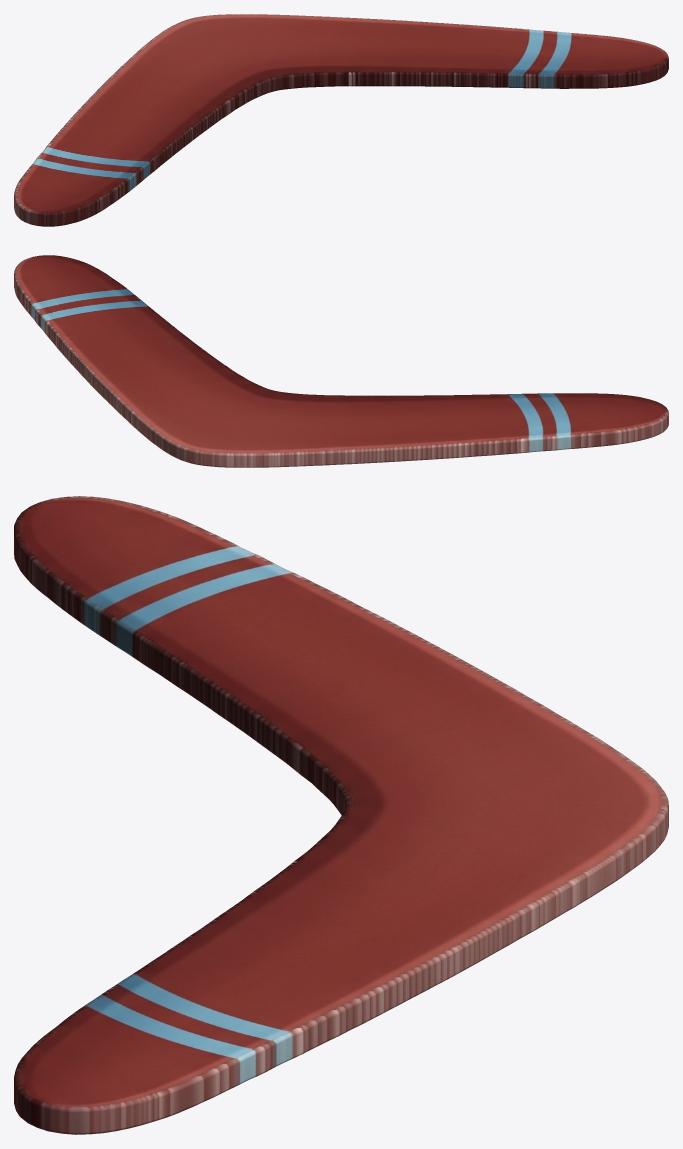
Rendered from Boomerang_13.fbx.
3 views of the same model, one above another, from view 1: azimuth 30°, elevation 25°; view 2: azimuth 150°, elevation 25°; view 3: azimuth 270°, elevation 25° (orthographic). The views are drawn at different scales.
Visible parts, largest first — view 1: Boomerang_13; view 2: Boomerang_13; view 3: Boomerang_13.
Part boxes in pixels (x1,y1,x2,y2): Boomerang_13: [14, 14, 668, 226]; Boomerang_13: [14, 255, 668, 467]; Boomerang_13: [14, 496, 668, 1134].
Size of the model in its own units: 225 by 4.6 by 101.
1 material, 1 textured.
